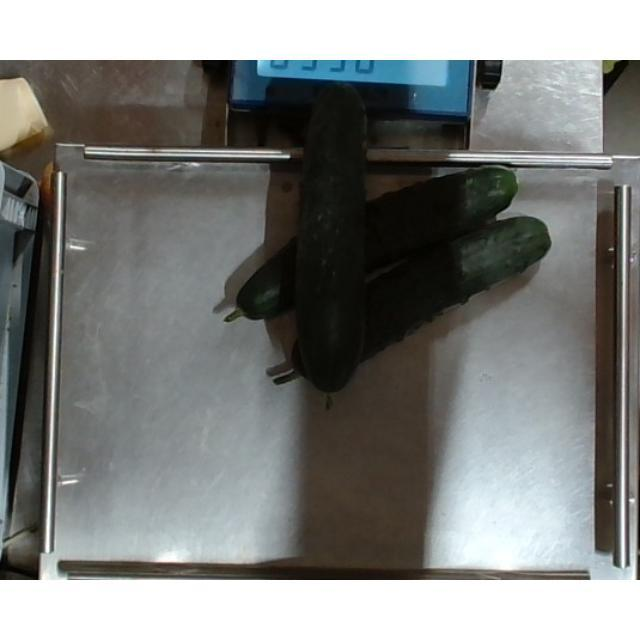cucumber: (289, 210, 557, 400), (235, 164, 528, 318)
